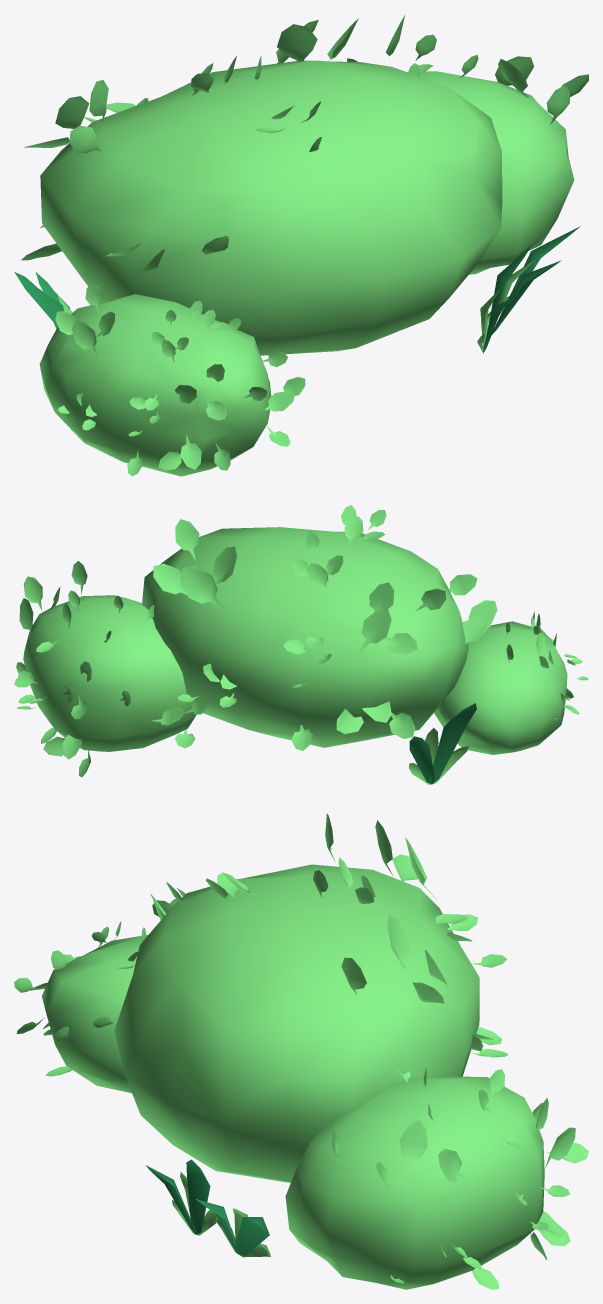
The model's file is tree_A.fbx.
3 renders of one model, top to bottom at view 1: azimuth 30°, elevation 25°; view 2: azimuth 150°, elevation 25°; view 3: azimuth 270°, elevation 25°, orthographic. The views are drawn at different scales.
Visible parts, largest first — view 1: Tree_A; view 2: Tree_A; view 3: Tree_A.
Part boxes in pixels (<box>): Tree_A: <box>14,15,588,476</box>; Tree_A: <box>14,505,588,784</box>; Tree_A: <box>14,814,588,1289</box>.
Size of the model in its own units: 4.61 by 2.11 by 3.69.
